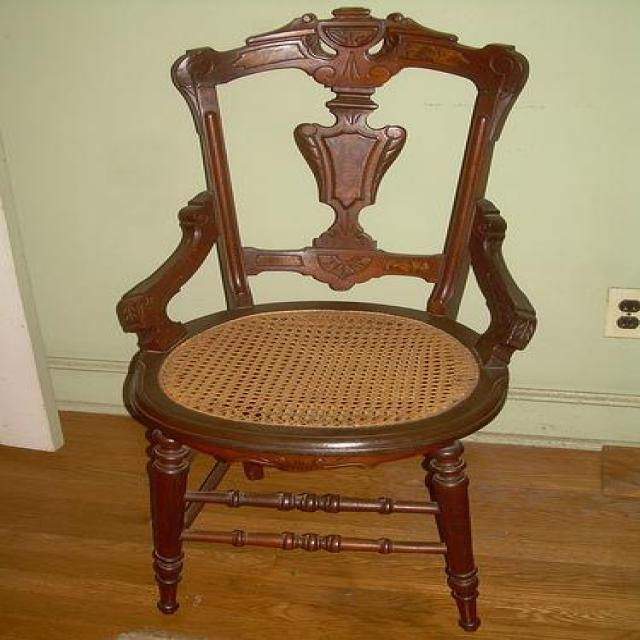chair: (114, 5, 538, 631)
